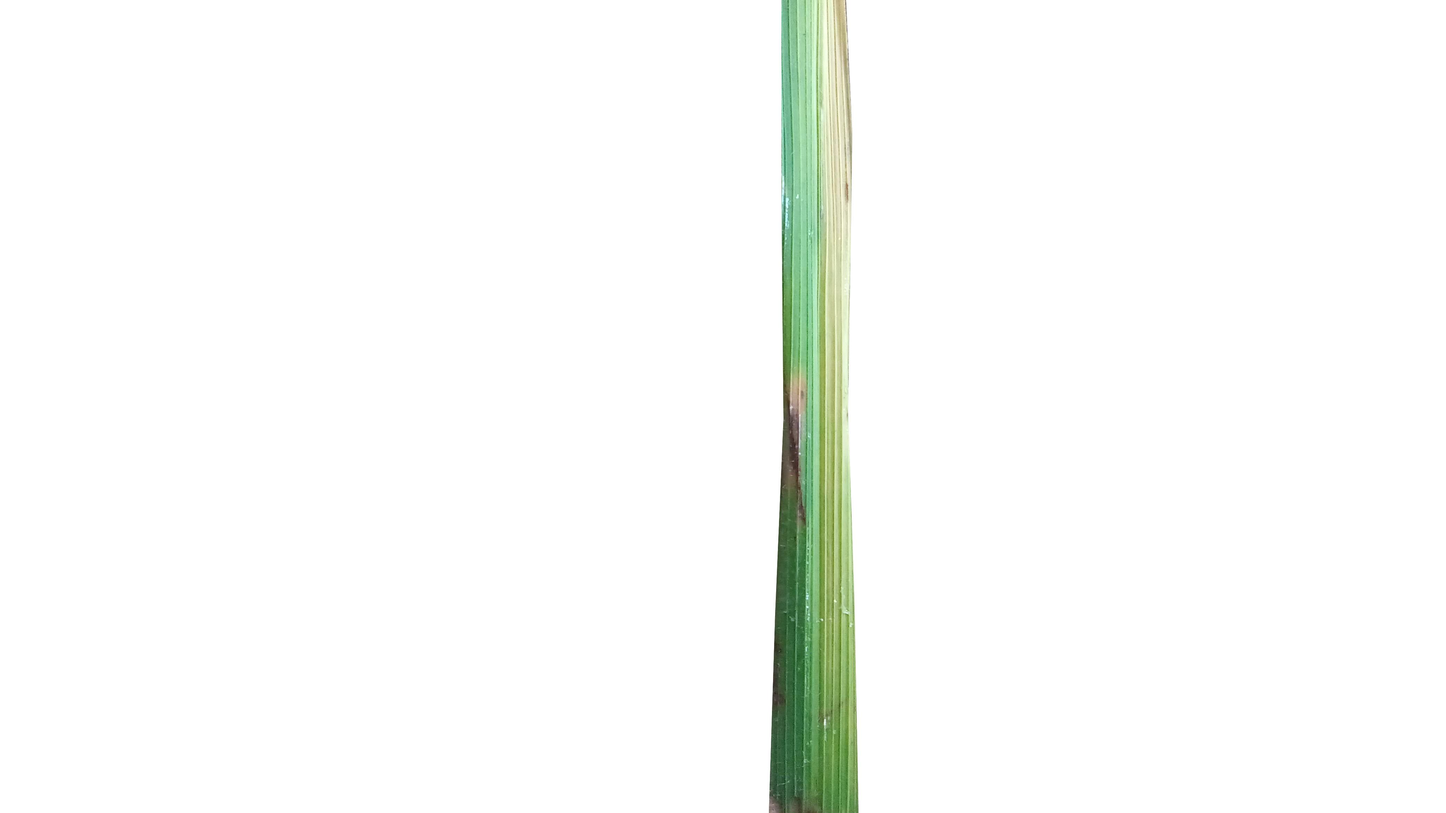Rice blast: (780, 370, 822, 516)
